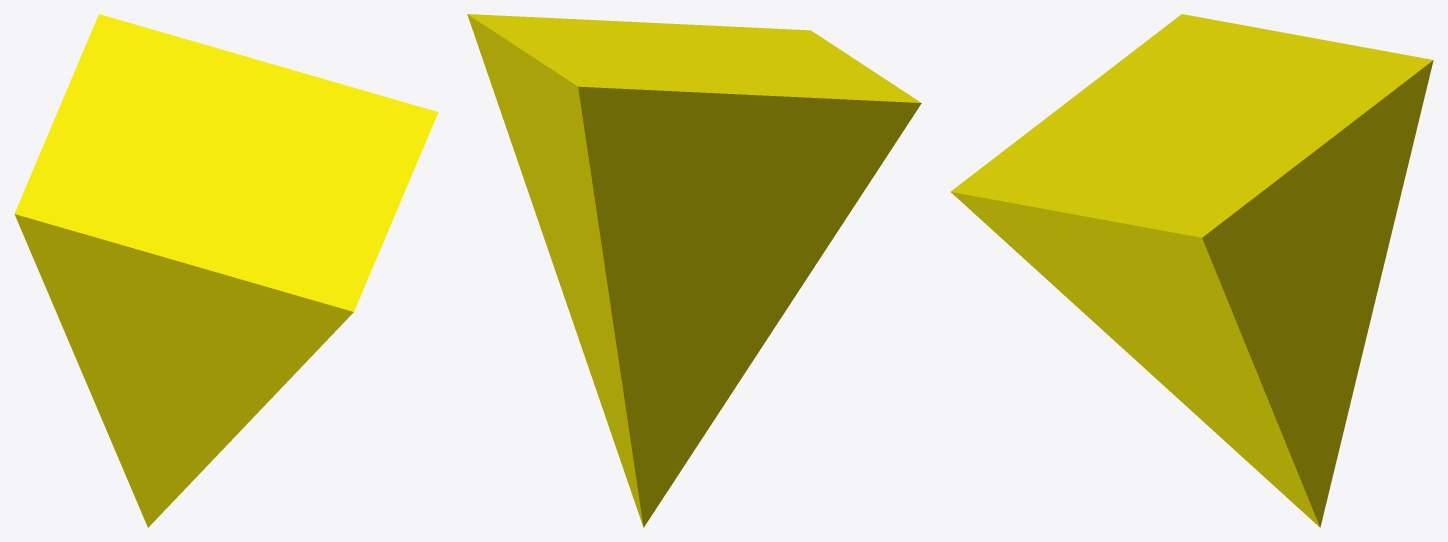
File: arrow.fbx
3 renders of one model, left to right at view 1: azimuth 30°, elevation 25°; view 2: azimuth 150°, elevation 25°; view 3: azimuth 270°, elevation 25°, orthographic. The views are drawn at different scales.
Visible parts, largest first — view 1: node_id5; view 2: node_id5; view 3: node_id5.
Part boxes in pixels (box(x1,y1,x2,y2)): node_id5: box(14, 14, 438, 527); node_id5: box(467, 14, 921, 527); node_id5: box(950, 14, 1433, 527).
Bounding box in the file's own units: 0.4365 × 0.4522 × 0.42.
Materials: 1 (1 with a texture image).
